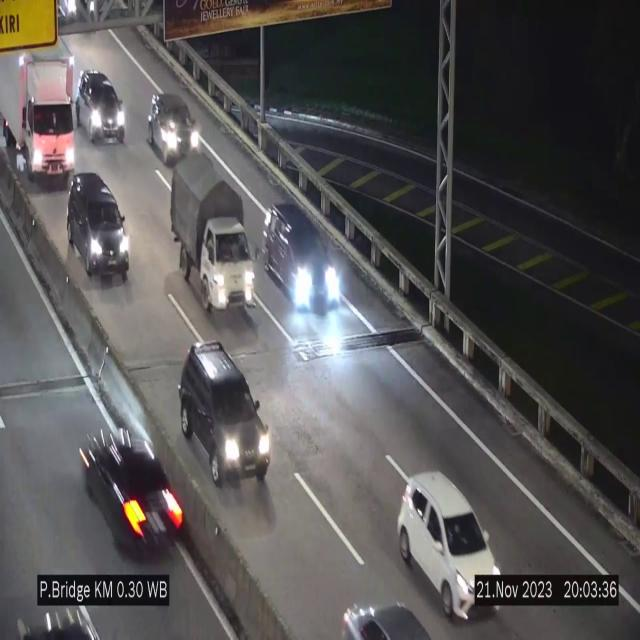Car: (76, 406, 188, 575), (398, 468, 504, 614), (180, 341, 274, 482), (263, 197, 344, 320), (67, 173, 129, 280), (336, 590, 434, 640), (74, 66, 128, 146), (145, 88, 200, 165)
Truck: (170, 160, 252, 313), (0, 28, 76, 181)
